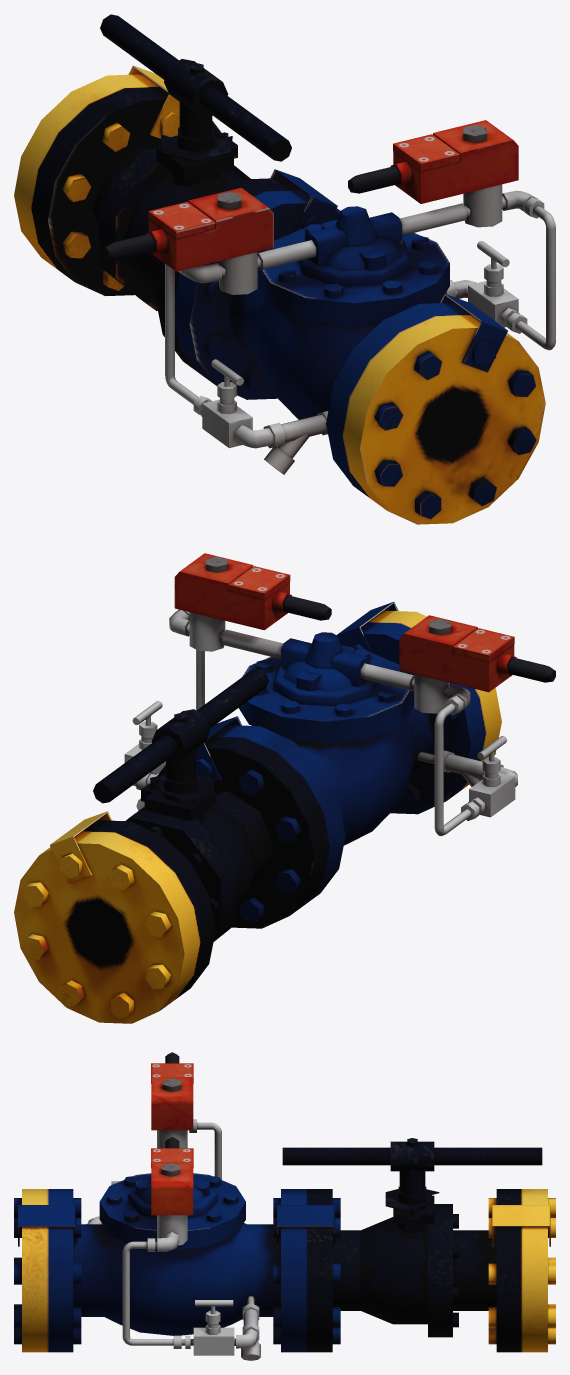
The model's file is ManualValve11S1IN.fbx.
The picture shows the model from 3 angles, top to bottom: view 1: azimuth 30°, elevation 25°; view 2: azimuth 150°, elevation 25°; view 3: azimuth 270°, elevation 25°; orthographic projection. The views are drawn at different scales.
Parts seen in each view (by area): view 1: Body, Handle; view 2: Body, Handle; view 3: Body, Handle.
Boxes of the visible parts, x1,y1,x2,y2 form: Body: [14, 65, 555, 524]; Handle: [100, 14, 291, 161]; Body: [14, 553, 555, 1023]; Handle: [93, 668, 268, 803]; Body: [14, 1052, 555, 1360]; Handle: [282, 1138, 542, 1212].
Bounding box in the file's own units: 50.03 × 32.69 × 72.39.
1 material, 1 textured.
